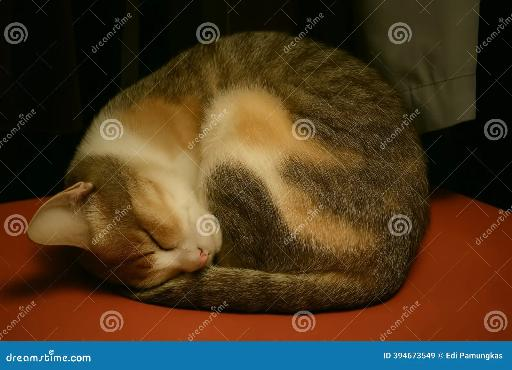cat_sleeping: (24, 31, 429, 313)
